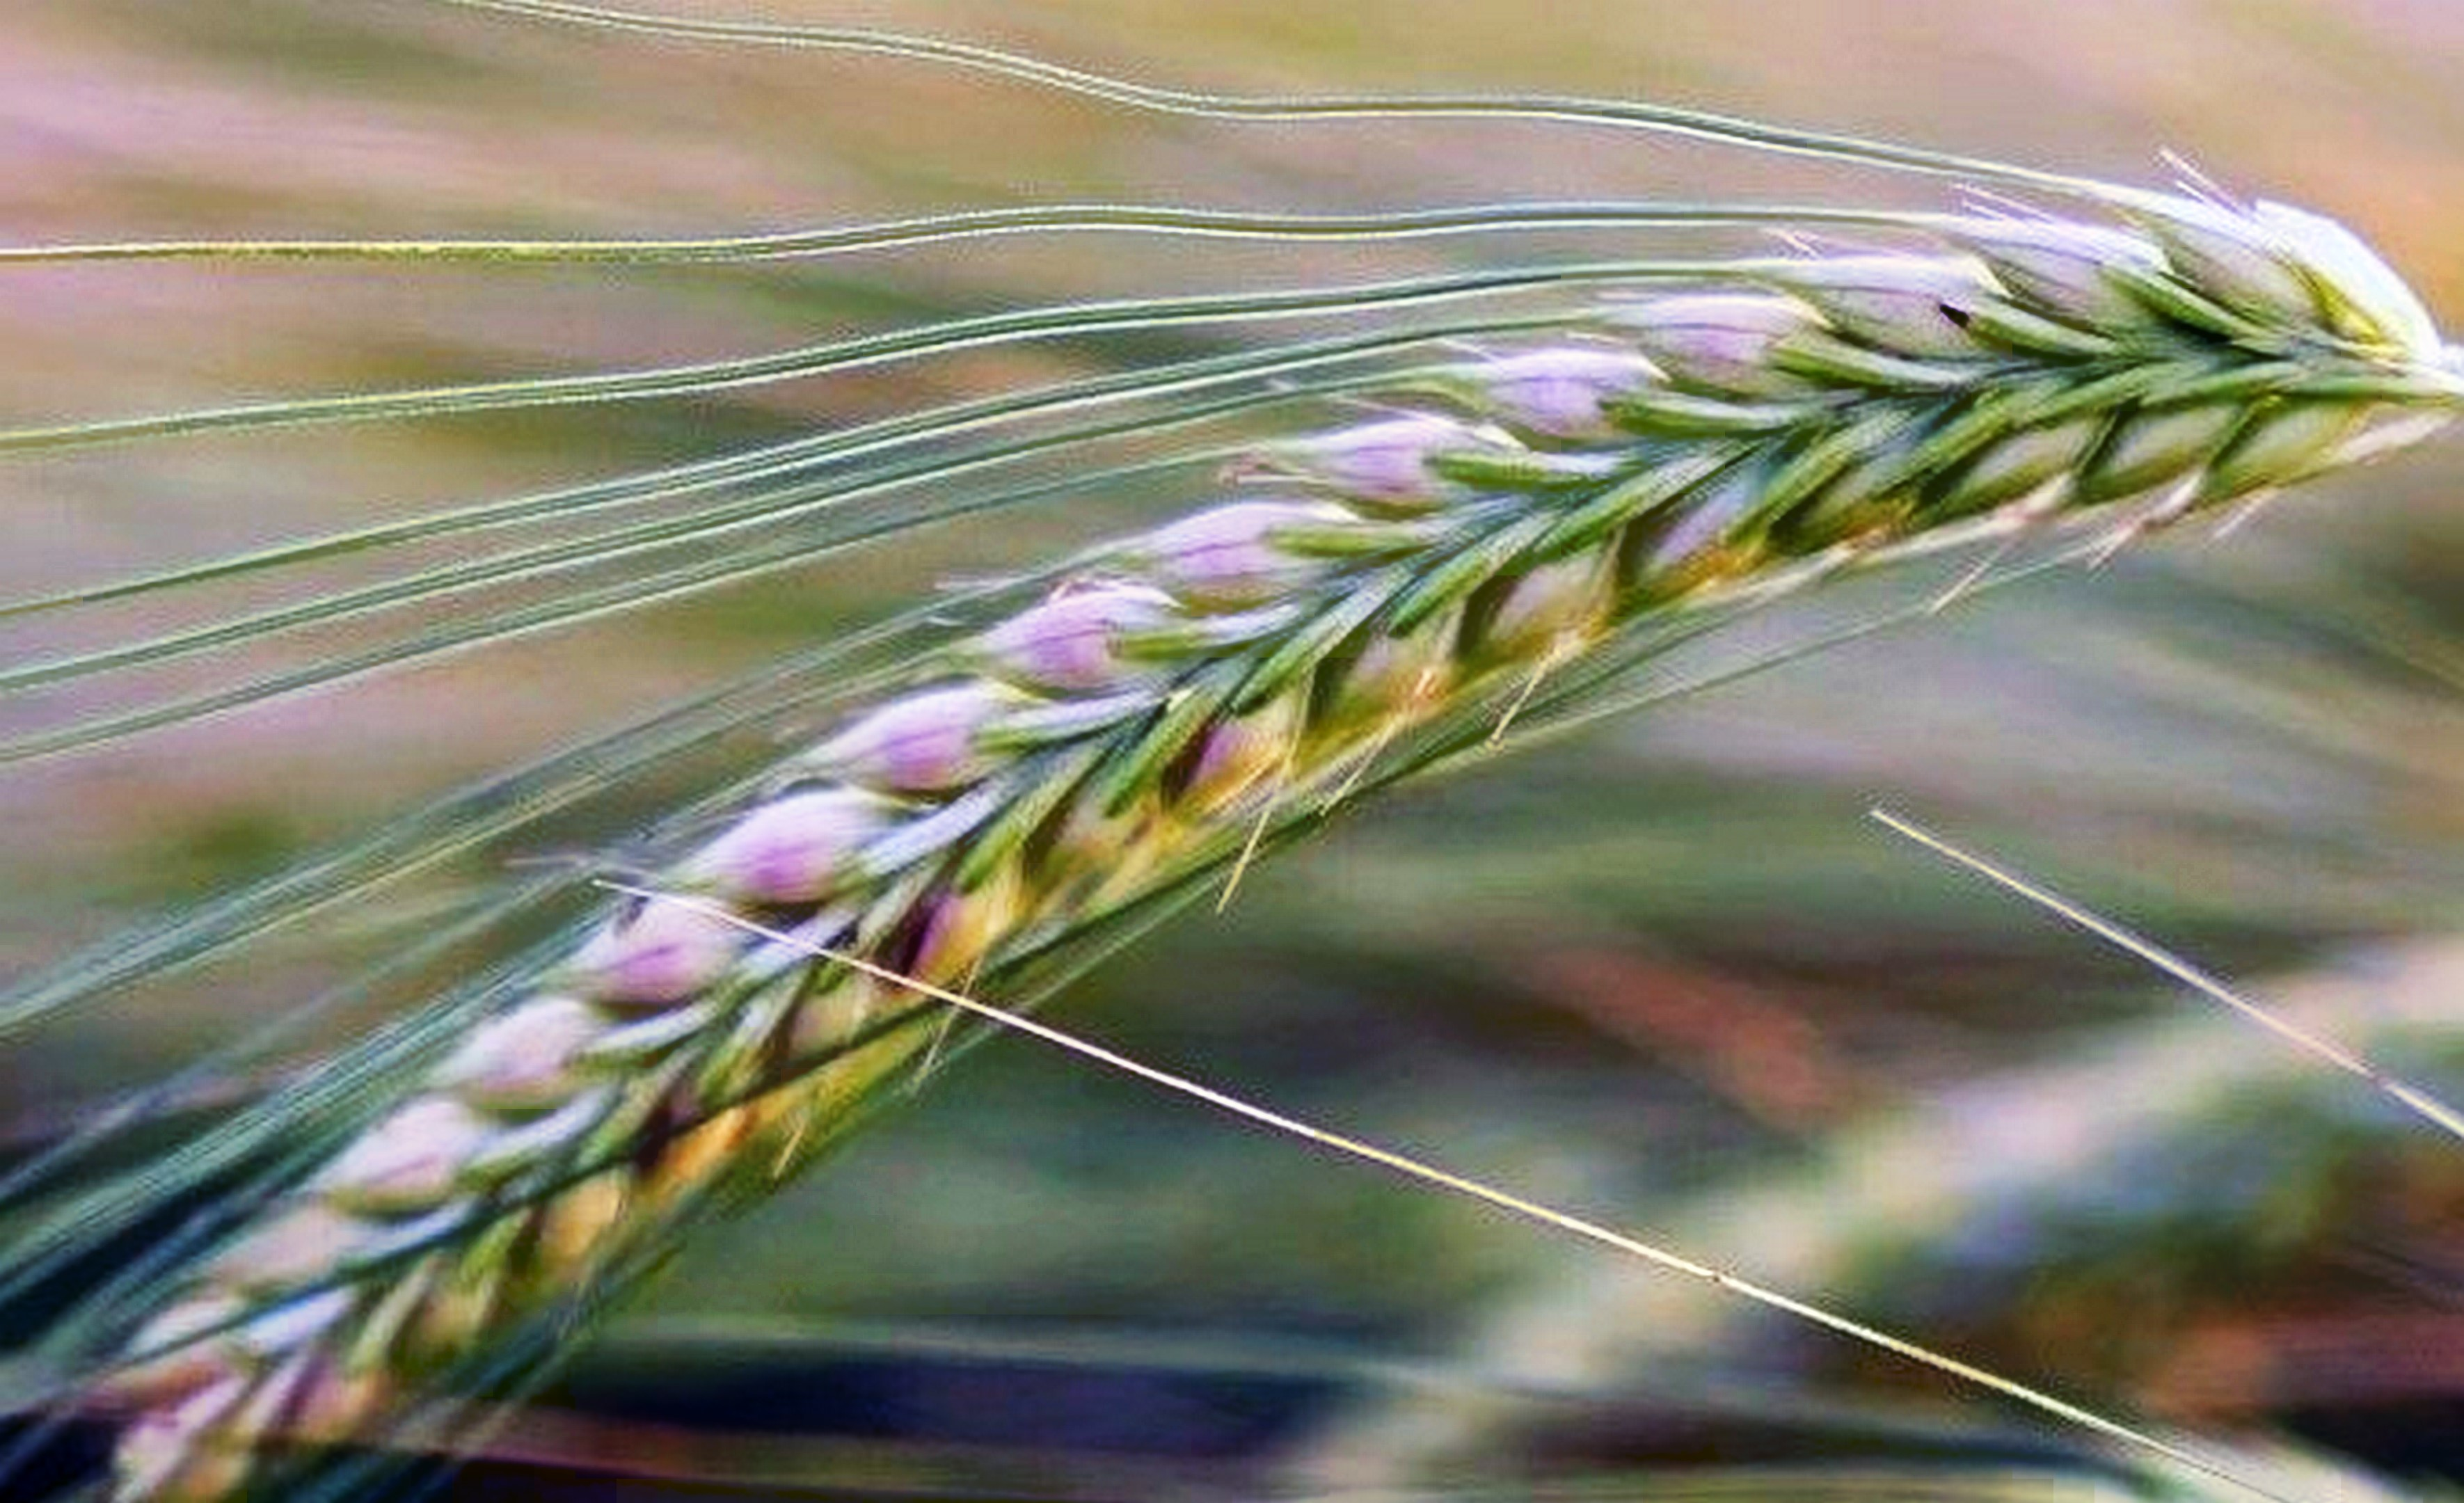Healthy Wheat: (289, 109, 2325, 1406)
